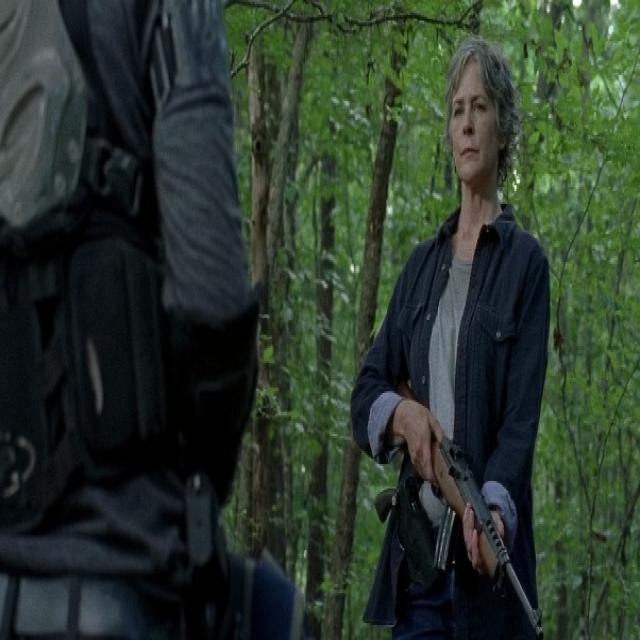rifle: (431, 443, 561, 640)
